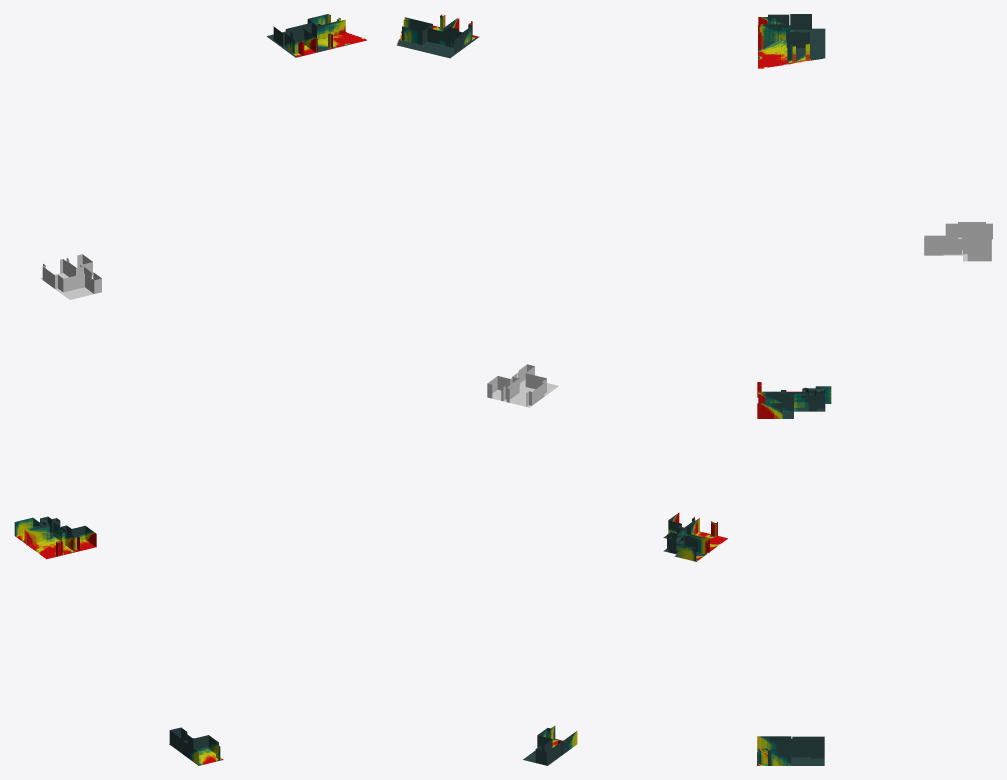
File: winter.fbx
3 renders of one model, left to right at view 1: azimuth 30°, elevation 25°; view 2: azimuth 150°, elevation 25°; view 3: azimuth 270°, elevation 25°, orthographic. The views are drawn at different scales.
Parts seen in each view (by area): view 1: WINTER; view 2: WINTER; view 3: WINTER.
Part boxes in pixels (x1,y1,x2,y2): WINTER: (14, 14, 366, 765); WINTER: (397, 14, 727, 765); WINTER: (757, 14, 992, 765).
Size of the model in its own units: 199 by 413 by 111.
